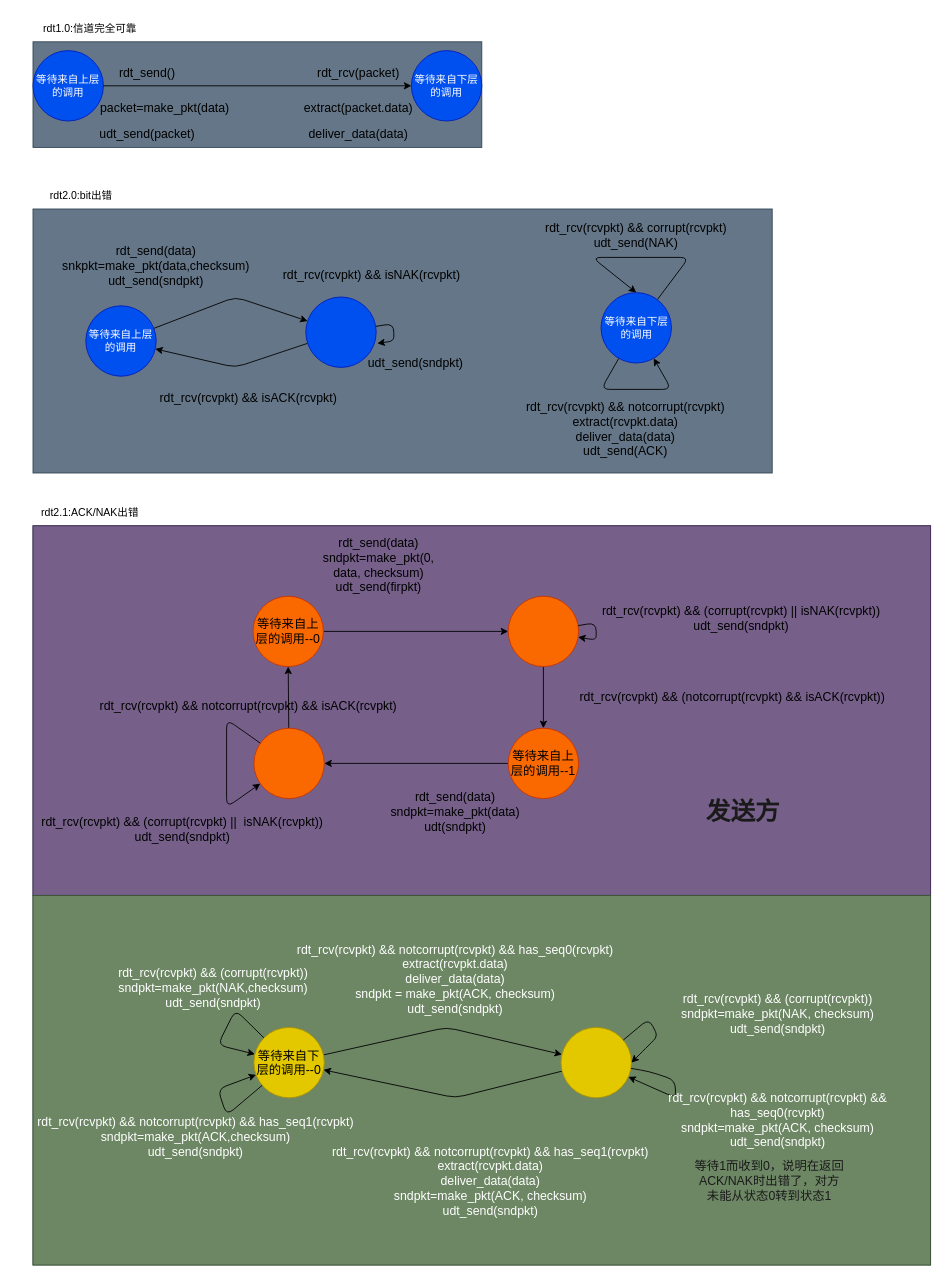
The diagram is 946 pixels wide and 1280 high, and some of its shapes have lost their labels. The centre of each missing label's shape, as x and y in pixels:
"等待ACK或NACK" belongs at pixel 340 331.
"等待ACK或NAK--0" belongs at pixel 543 631.
"等待ACK或NAK--1" belongs at pixel 288 763.
"等待来自下层的调用--1" belongs at pixel 595 1062.
